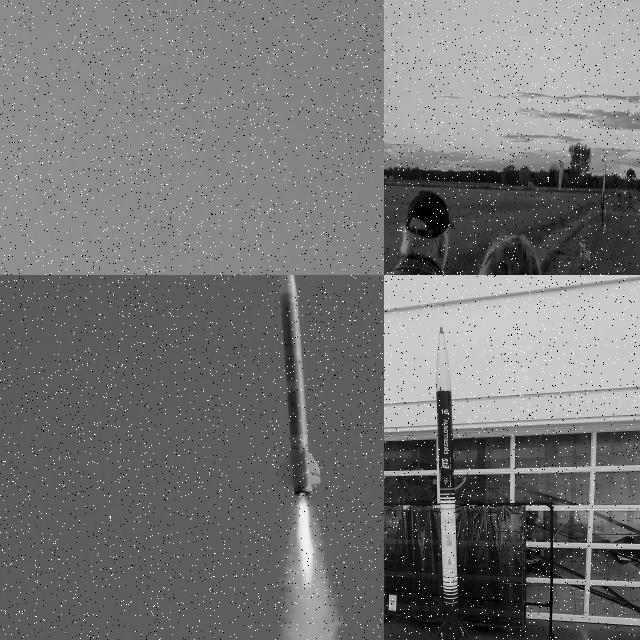Rocket: (272, 275, 323, 496), (436, 326, 468, 640), (601, 173, 606, 210)
